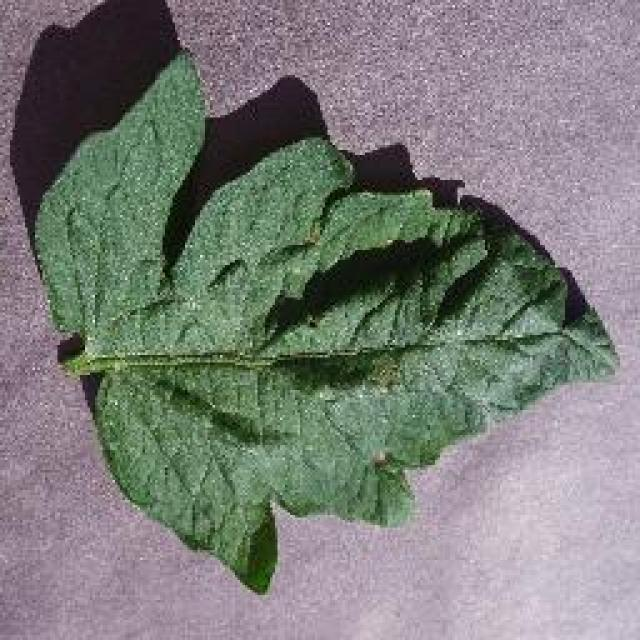Tomato___Target_Spot: (35, 52, 612, 590)
